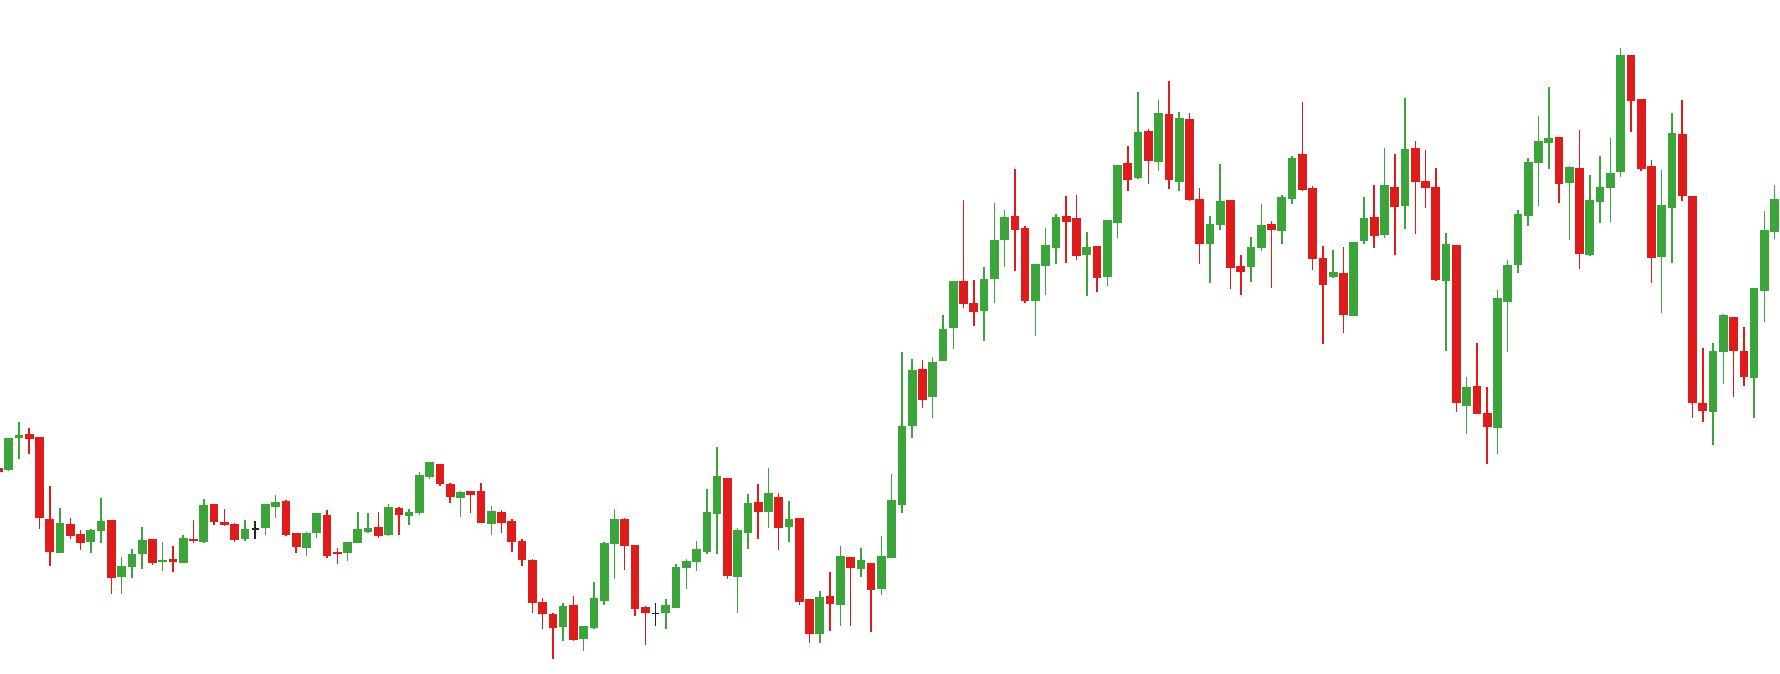buy: (733, 515, 825, 646)
sell: (1296, 95, 1424, 255), (1544, 45, 1637, 192)
